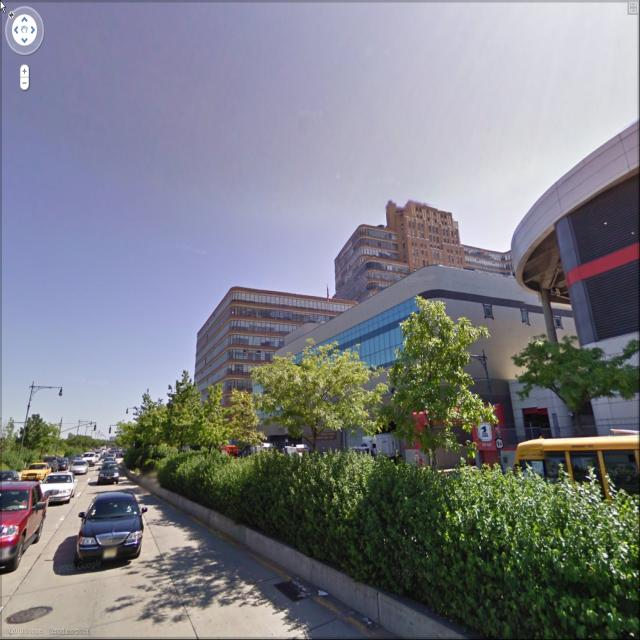b_1: (189, 286, 382, 402), (323, 182, 493, 288)
b_2: (267, 255, 594, 411), (514, 98, 640, 412)
